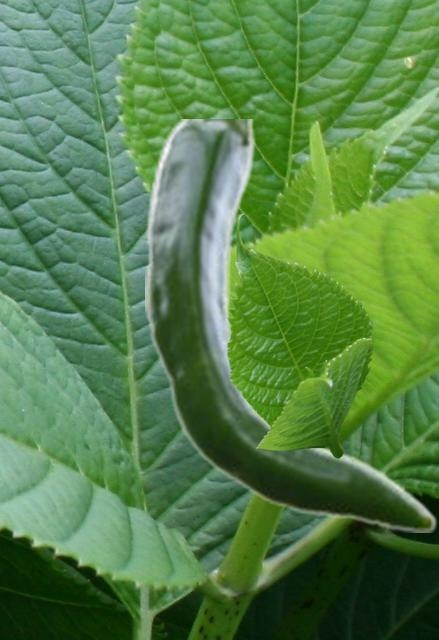green_chili: (145, 119, 437, 531)
